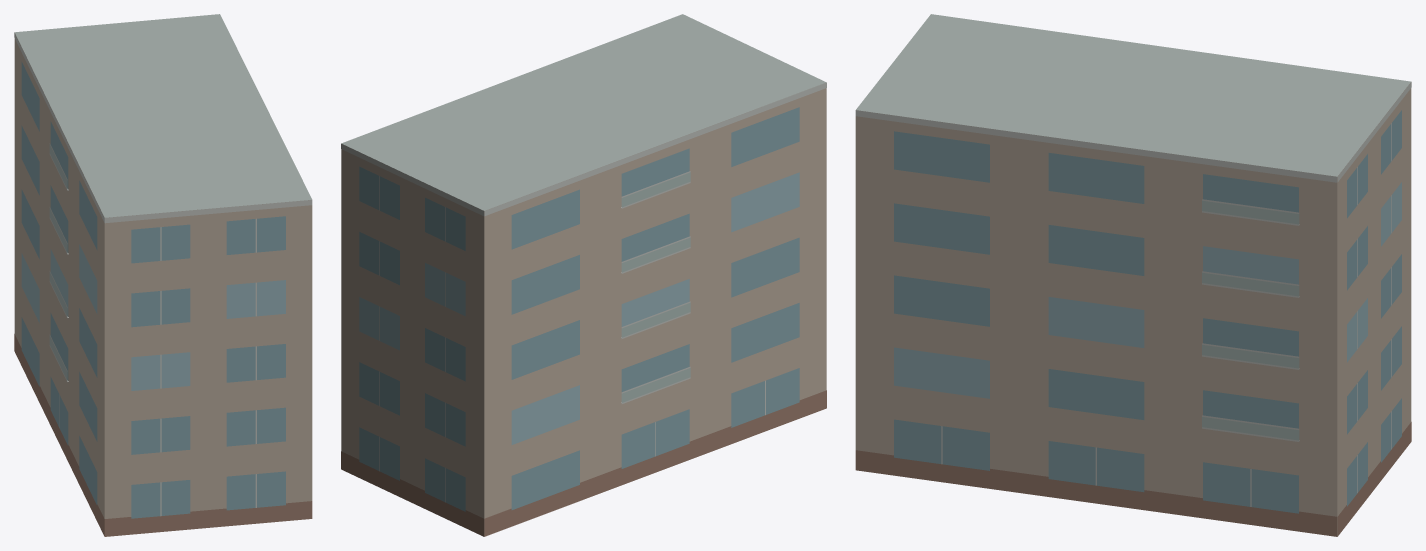
File: survey-upis-32949382.glb
The picture shows the model from 3 angles, left to right: view 1: azimuth 30°, elevation 25°; view 2: azimuth 150°, elevation 25°; view 3: azimuth 270°, elevation 25°; orthographic projection. The views are drawn at different scales.
Parts seen in each view (by area): view 1: survey-upis-32949382.tmp; view 2: survey-upis-32949382.tmp; view 3: survey-upis-32949382.tmp.
Boxes of the visible parts, box(x1,y1,x2,y2) form: survey-upis-32949382.tmp: box(14, 14, 312, 536); survey-upis-32949382.tmp: box(341, 14, 826, 536); survey-upis-32949382.tmp: box(855, 14, 1411, 536).
Size of the model in its own units: 13.96 by 14.4 by 20.15.
